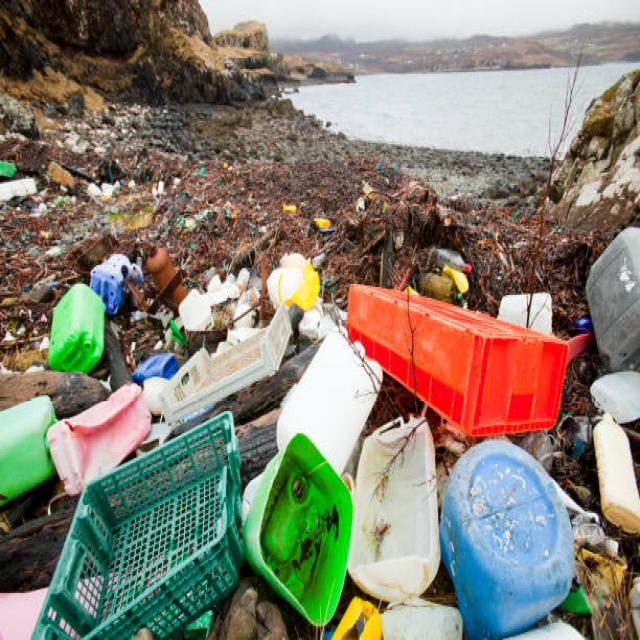trash: (19, 108, 625, 607)
